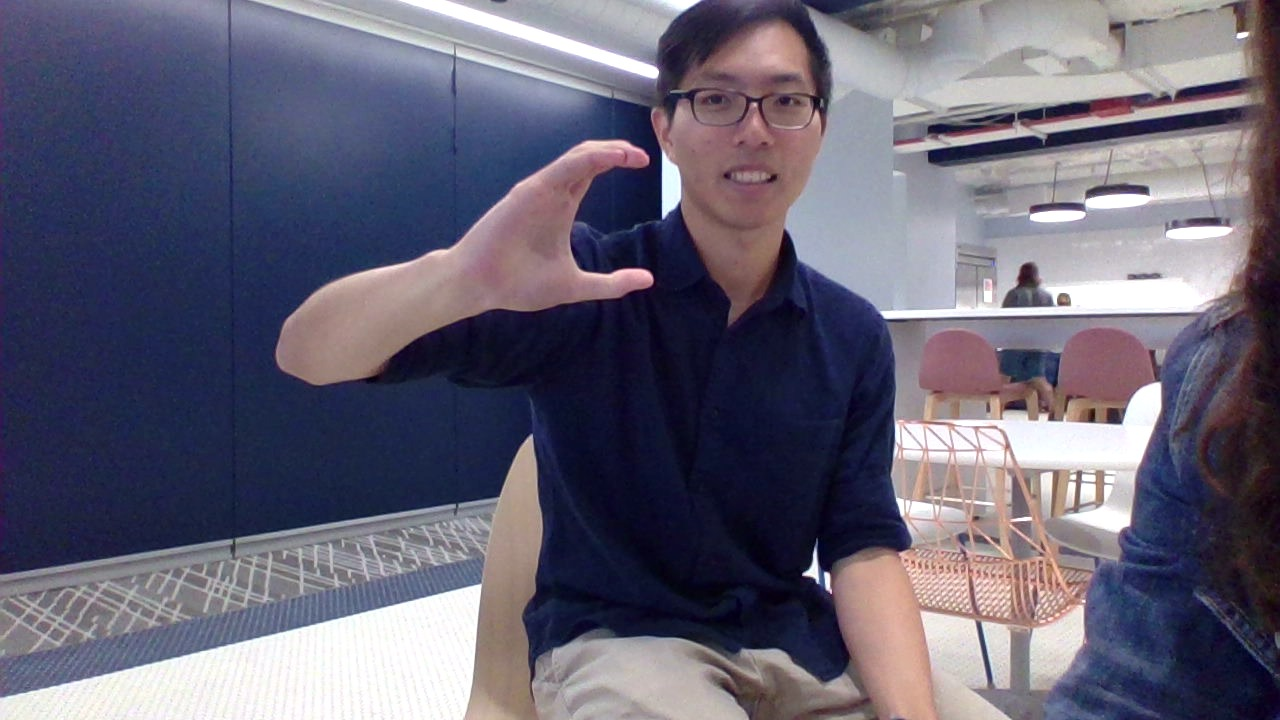c: (456, 127, 680, 340)
